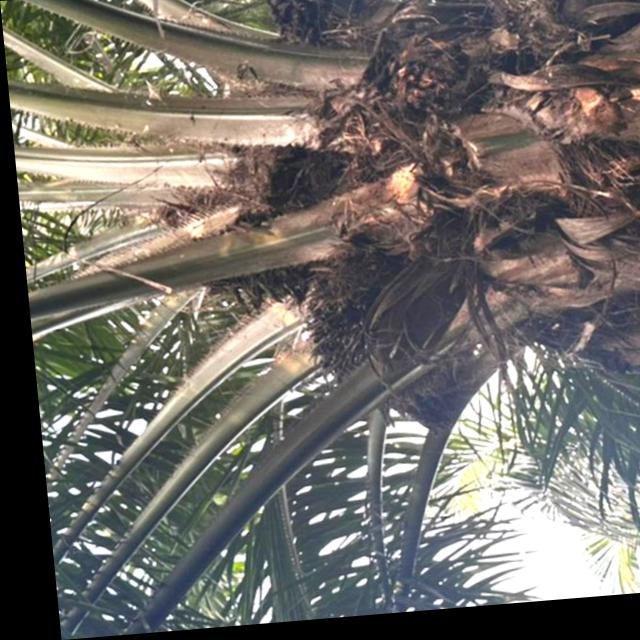almost: (289, 259, 432, 399)
